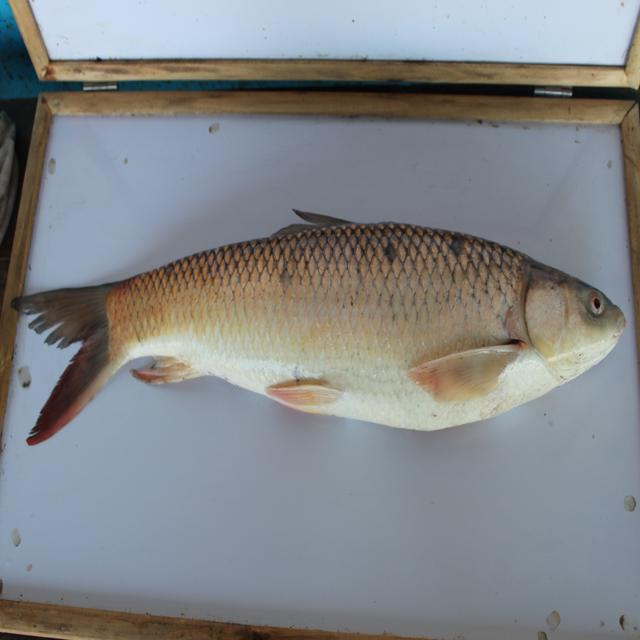Mori: (4, 208, 609, 446)
